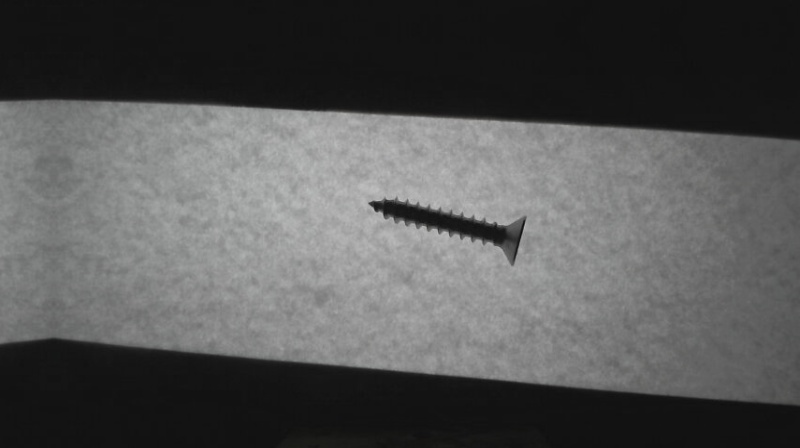S001: (365, 193, 529, 265)
